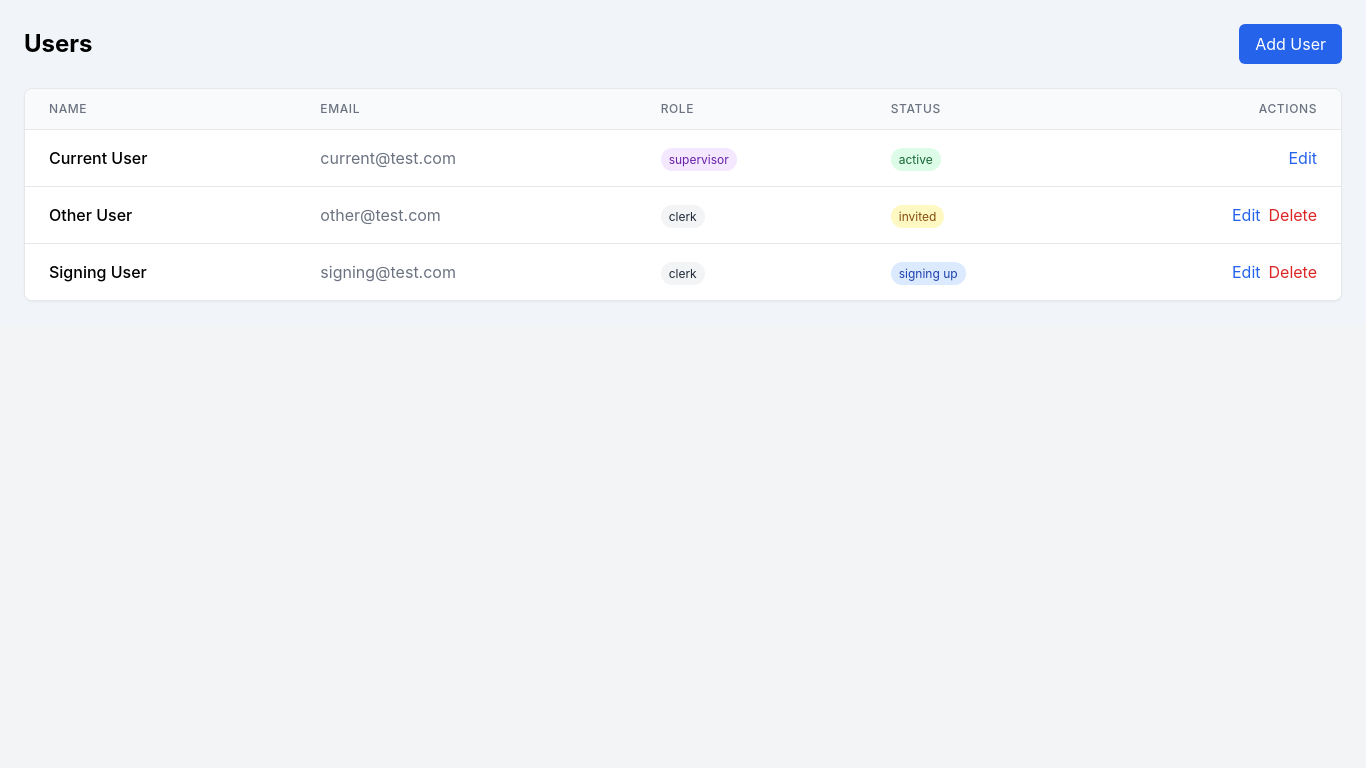
Test: UsersPanel › Add User Form › should show form when add user is clicked
What coordinates should you click on to do the following:
click the button "Add User"
I would click on:
 (1291, 44)
Its box is x1=1239 y1=24 x2=1342 y2=64.
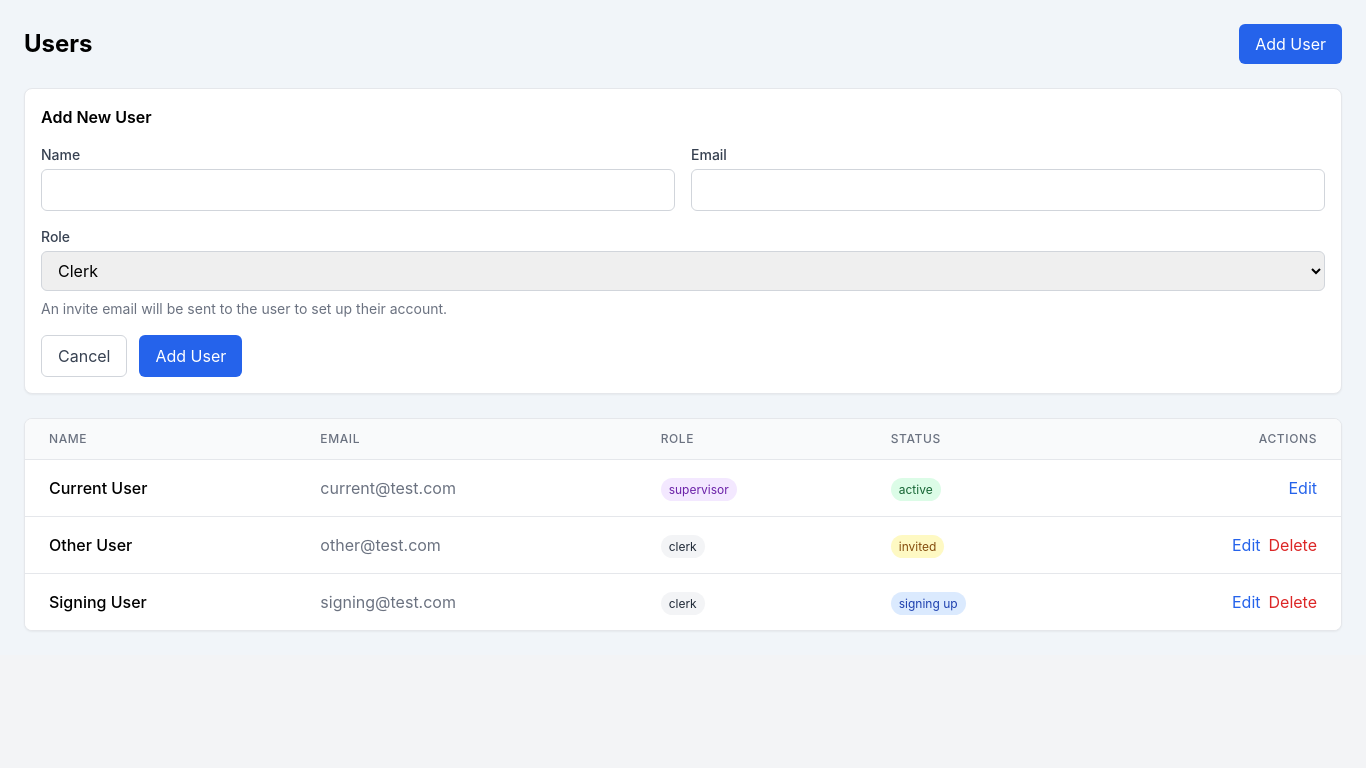
Check: the heading "Add New User" is shown, box x1=41 y1=107 x2=152 y2=127
